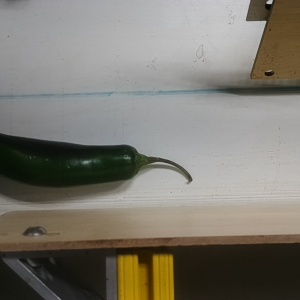Cut Point: (118, 143, 152, 181)
